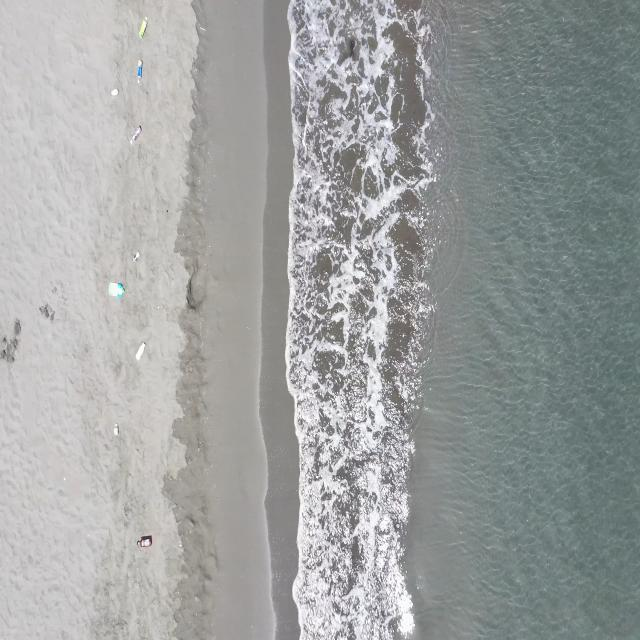plastic-bottle: (138, 15, 149, 40), (109, 280, 124, 298), (136, 534, 153, 548), (129, 126, 142, 144), (135, 342, 146, 362), (136, 60, 144, 84), (132, 248, 140, 264), (110, 87, 120, 97), (113, 422, 120, 436)
